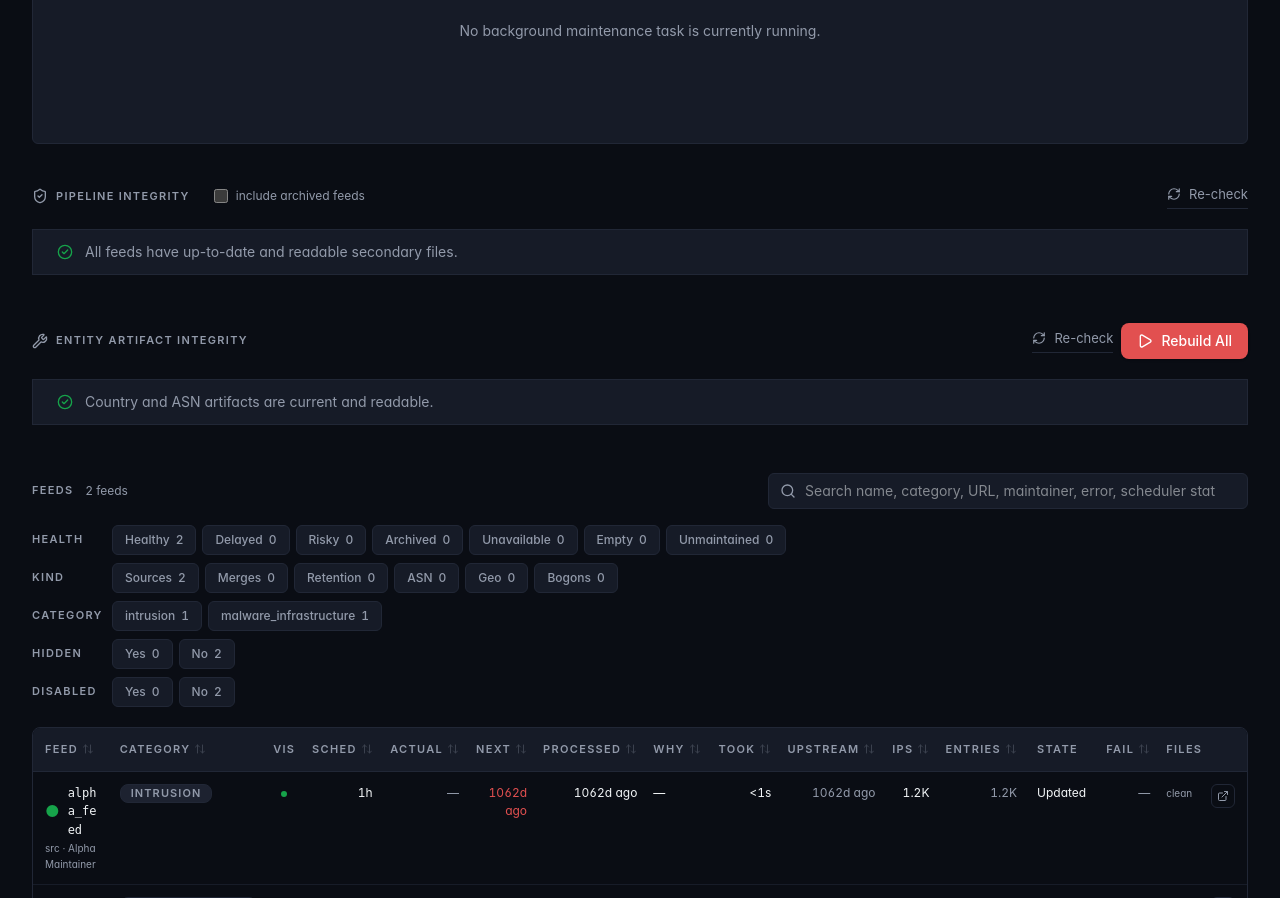
Test case: filters admin rows and opens the selected feed details
The width and height of the screenshot is (1280, 898).
(page scrolled)
Expected: the button with aria-label "sort by feed ascending" is shown, [45,741,94,758]
Step 1. Type "beta" into the field named "search admin feeds" → (1008, 491), box [768,473,1248,509]
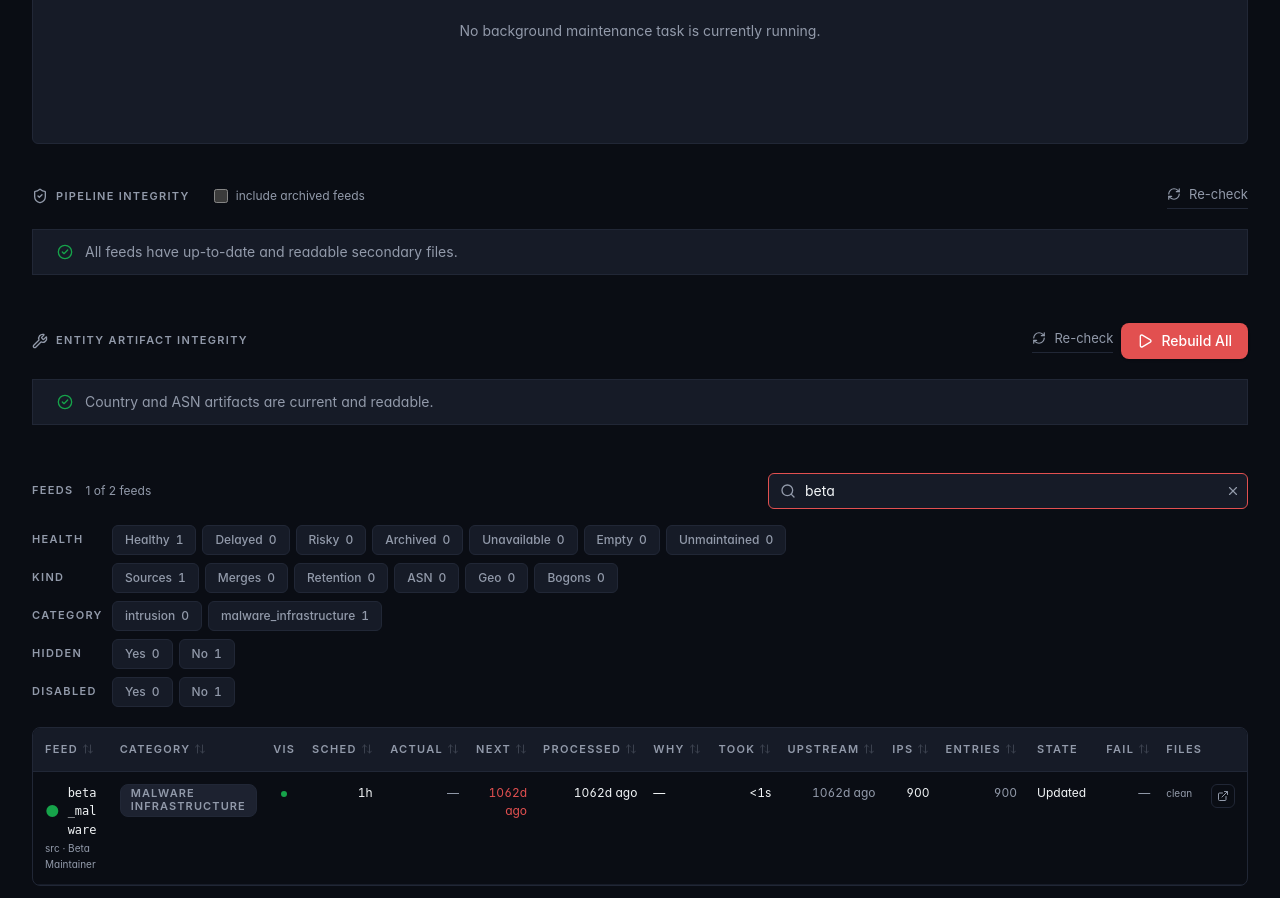
Step 2. Click the button with aria-label "open beta_malware" → (72, 811), box [45,784,100,839]
(page scrolled)
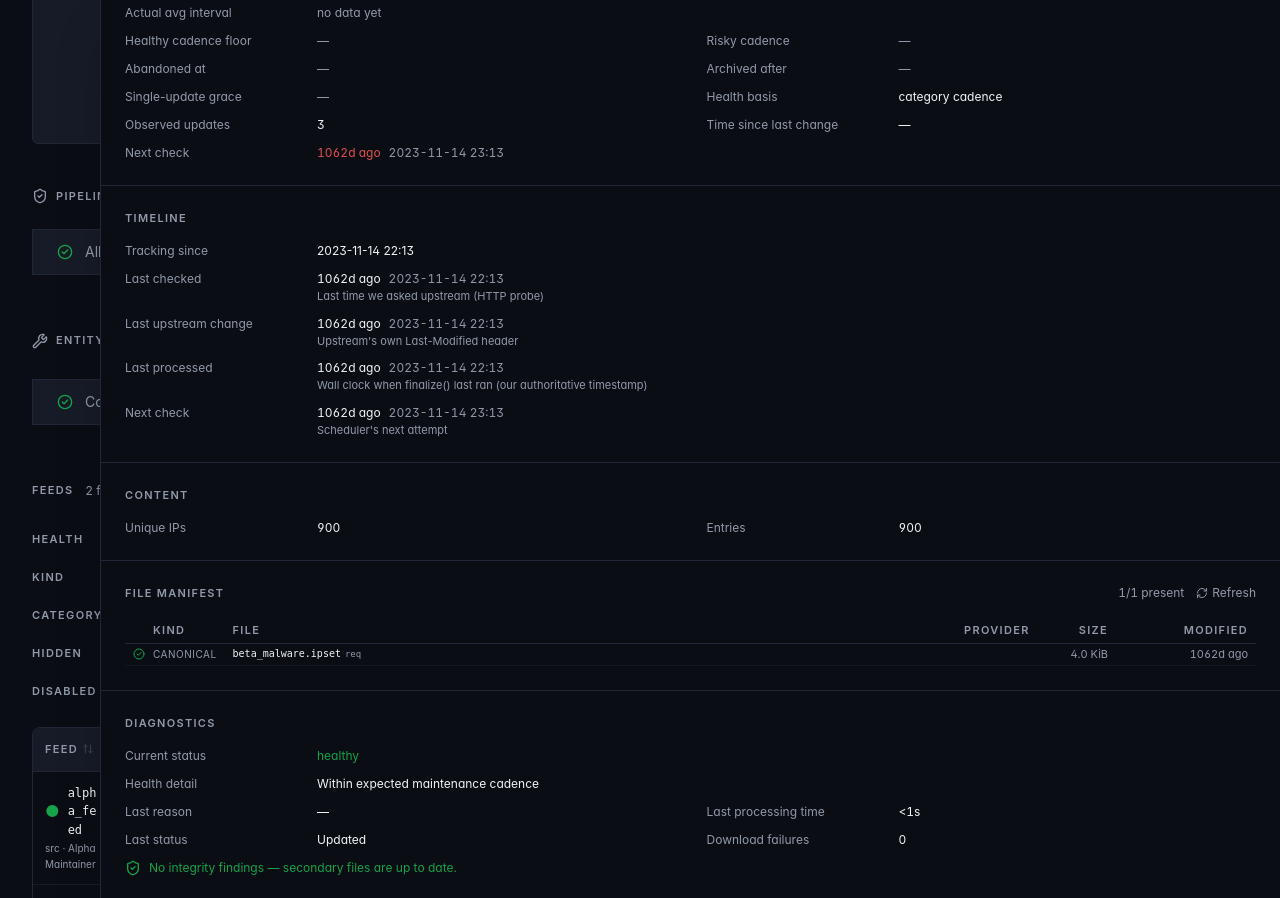
Expected: the heading "File manifest" is shown, [125,585,224,602]
Expected: the text "1/1 present" is shown, [1118,585,1184,601]
